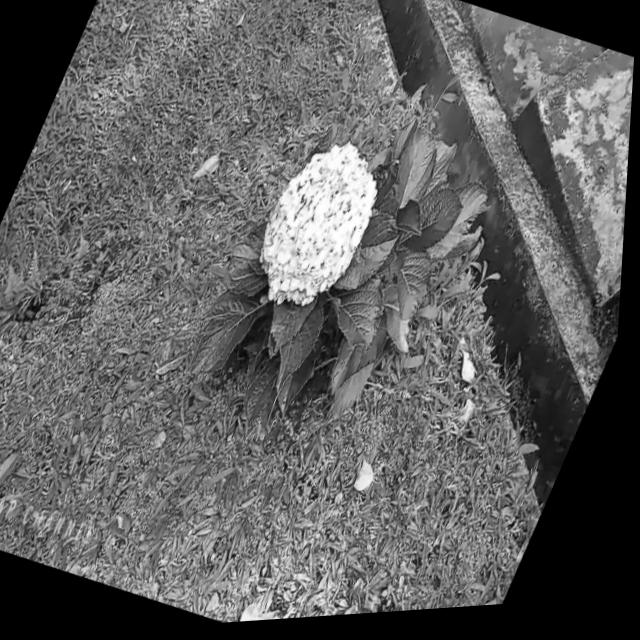Flower: (241, 123, 406, 326)
